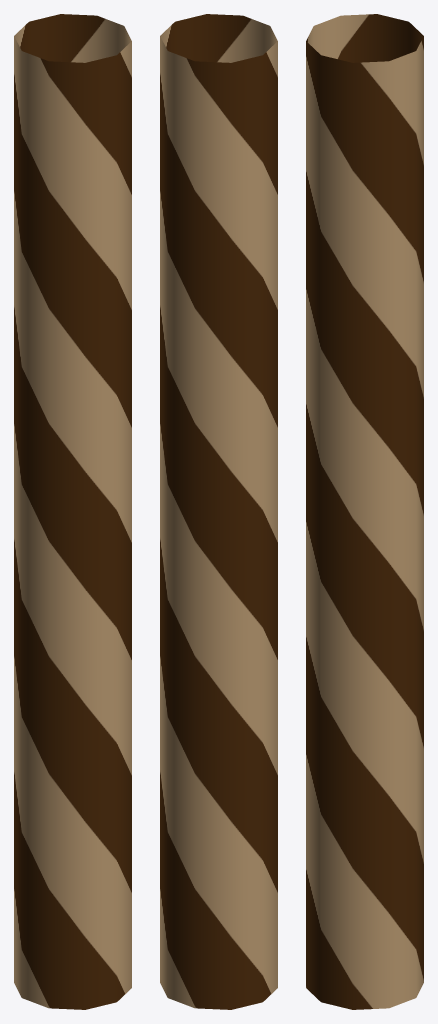
Rendered from Cake_items_WaferStick-A.FBX.
The picture shows the model from 3 angles, left to right: view 1: azimuth 30°, elevation 25°; view 2: azimuth 210°, elevation 25°; view 3: azimuth 330°, elevation 25°; orthographic projection.
Visible parts, largest first — view 1: Cake_items_WaferStick-A; view 2: Cake_items_WaferStick-A; view 3: Cake_items_WaferStick-A.
Part boxes in pixels (<box>): Cake_items_WaferStick-A: <box>14,14,131,1009</box>; Cake_items_WaferStick-A: <box>160,14,277,1009</box>; Cake_items_WaferStick-A: <box>306,14,423,1009</box>.
Bounding box in the file's own units: 469 × 4140 × 446.
